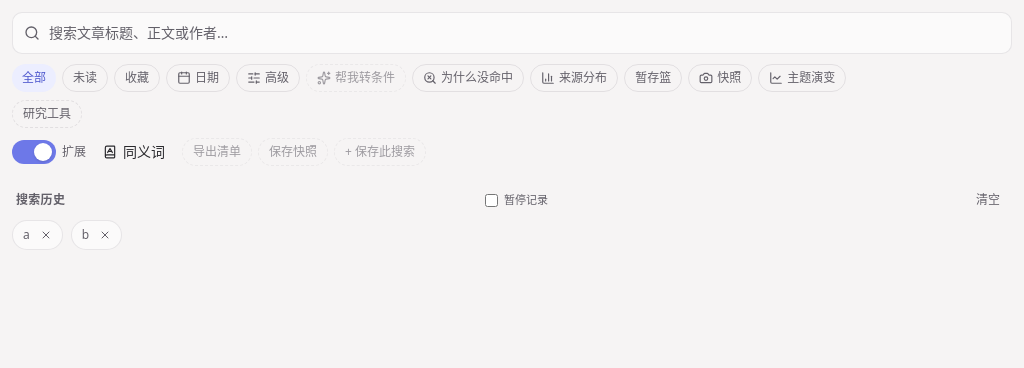
SearchPage（0022 全局搜索正式功能） › 历史：单条删除 + 清空
Click the button named "删除历史「a」" at coordinates (46, 235), box [34,223,58,247]
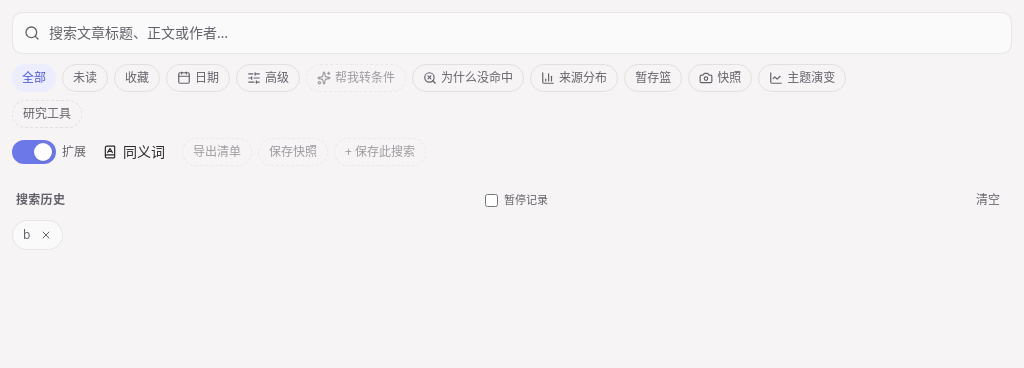
Expected: the button "b" is shown, [23,221,30,249]
Expected: the button "a" is gone
Click the button "清空" at coordinates (988, 200), box [968,188,1008,212]
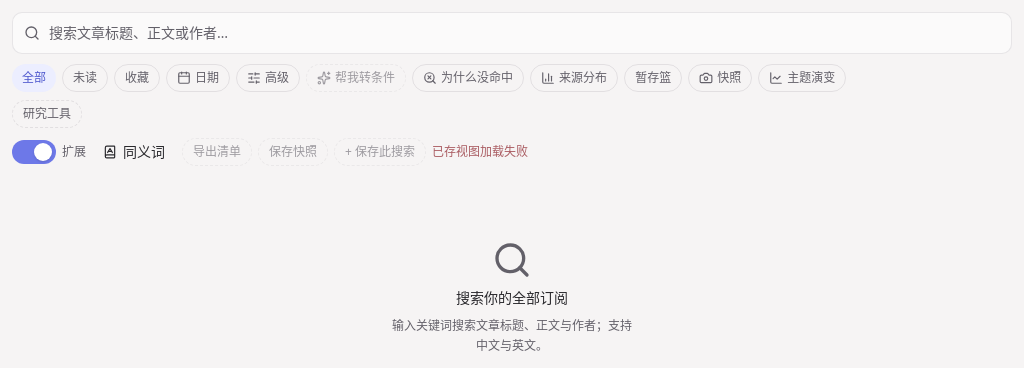
Expected: the button "b" is gone
